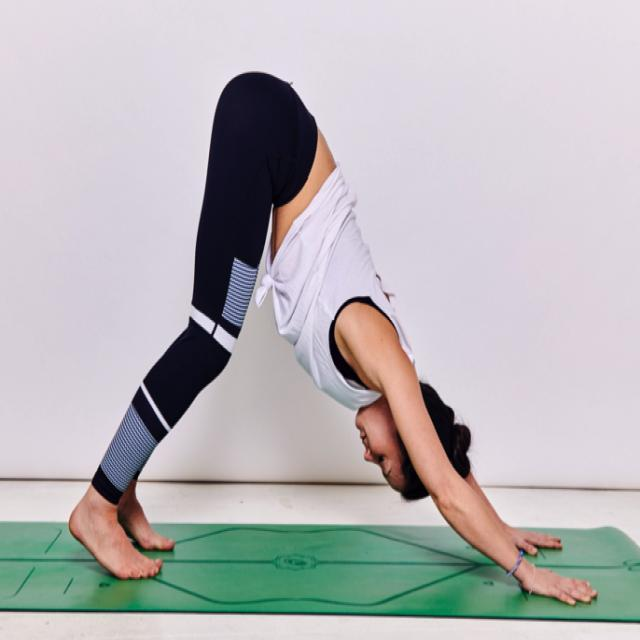Downward-Facing_Dog: (60, 60, 606, 610)
